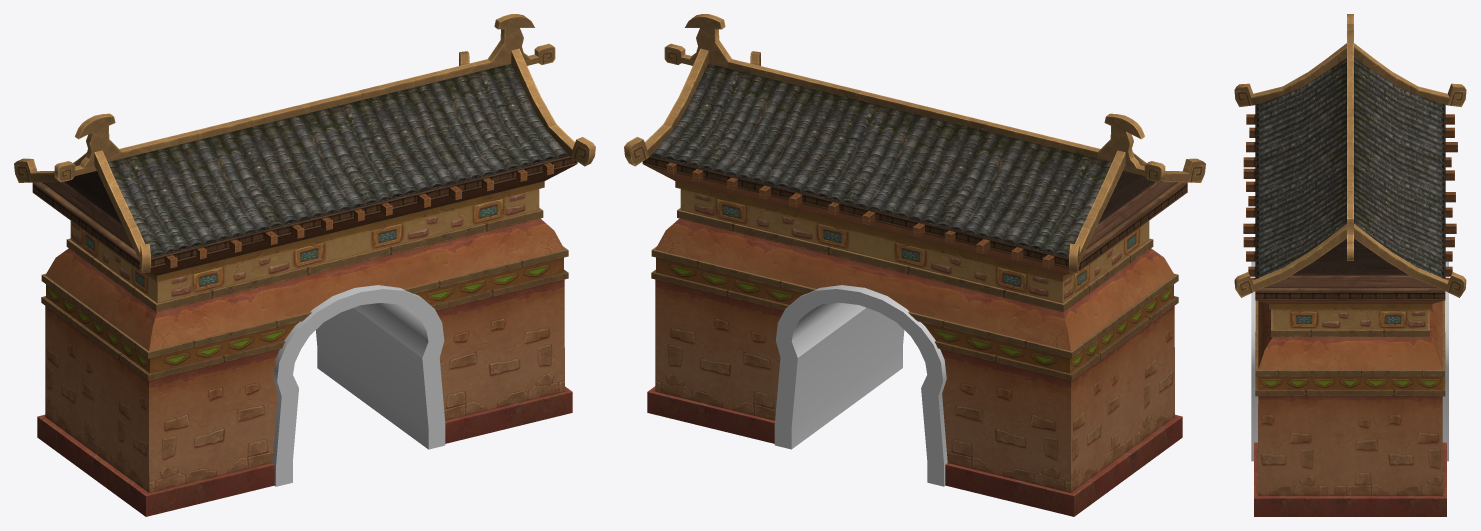
Rendered from SV_BUD_desert_menlou_0.FBX.
3 renders of one model, left to right at view 1: azimuth 30°, elevation 25°; view 2: azimuth 150°, elevation 25°; view 3: azimuth 270°, elevation 25°, orthographic. The views are drawn at different scales.
Parts seen in each view (by area): view 1: SV_BUD_desert_menlou_0_ding, SV_BUD_desert_menlou_0_qiang, SV_BUD_desert_menlou_0_men; view 2: SV_BUD_desert_menlou_0_ding, SV_BUD_desert_menlou_0_qiang, SV_BUD_desert_menlou_0_men; view 3: SV_BUD_desert_menlou_0_ding, SV_BUD_desert_menlou_0_qiang, SV_BUD_desert_menlou_0_men.
Boxes of the visible parts, bbox=[...] form: SV_BUD_desert_menlou_0_ding: bbox=[14, 14, 595, 380]; SV_BUD_desert_menlou_0_qiang: bbox=[37, 218, 572, 516]; SV_BUD_desert_menlou_0_men: bbox=[272, 285, 445, 486]; SV_BUD_desert_menlou_0_ding: bbox=[624, 14, 1205, 380]; SV_BUD_desert_menlou_0_qiang: bbox=[647, 218, 1182, 516]; SV_BUD_desert_menlou_0_men: bbox=[774, 285, 947, 486]; SV_BUD_desert_menlou_0_ding: bbox=[1234, 14, 1466, 396]; SV_BUD_desert_menlou_0_qiang: bbox=[1254, 301, 1446, 516]; SV_BUD_desert_menlou_0_men: bbox=[1251, 261, 1448, 461].
Size of the model in its own units: 16.7 by 11.54 by 7.61.
